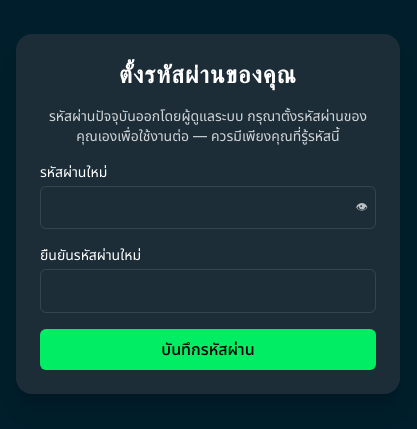
Test: ChangePasswordPage error reporting › still reports a genuinely short password as short
The width and height of the screenshot is (417, 429).
Expected: the heading "ตั้งรหัสผ่านของคุณ" is shown, [119, 59, 297, 89]
Type "BrandNewPass1" into the password field labelled "รหัสผ่านใหม่" at (208, 207), box [40, 186, 376, 229]
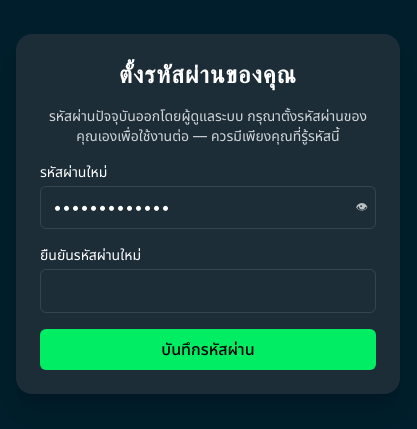
Type "BrandNewPass1" into the password field labelled "ยืนยันรหัสผ่านใหม่" at (208, 291), box [40, 269, 376, 313]
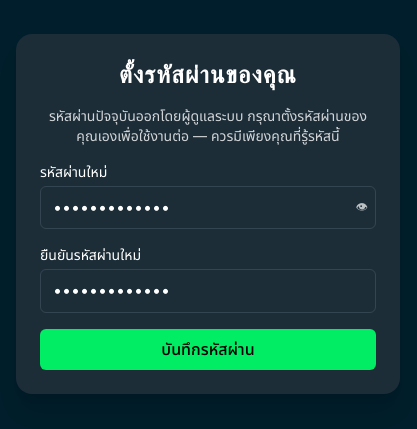
Click the button "บันทึกรหัสผ่าน" at (208, 350), box [40, 329, 376, 370]
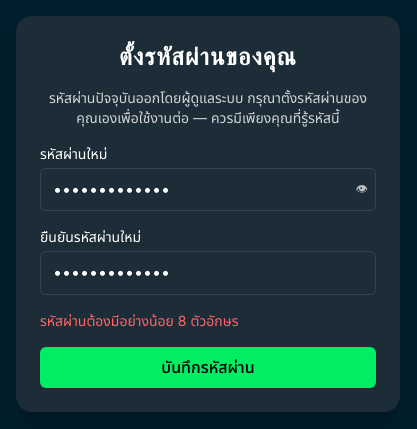
Expected: the message shows "อย่างน้อย 8 ตัวอักษร", [40, 312, 238, 329]
